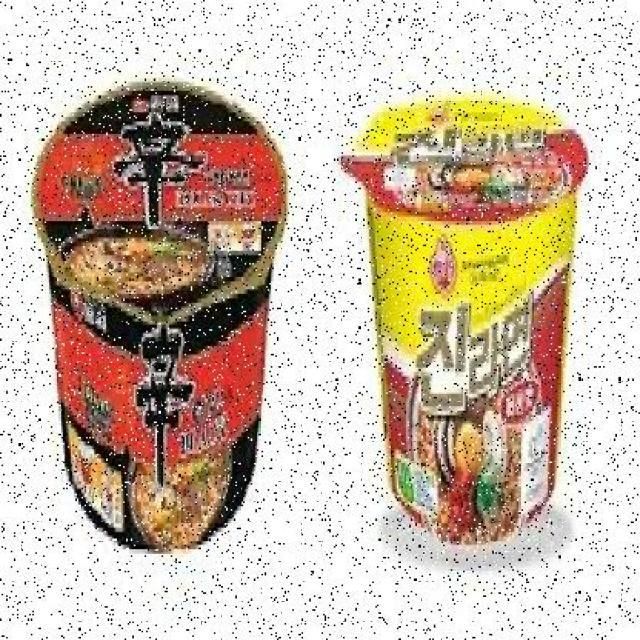Miscellaneous: (33, 82, 287, 556), (344, 89, 588, 534)
